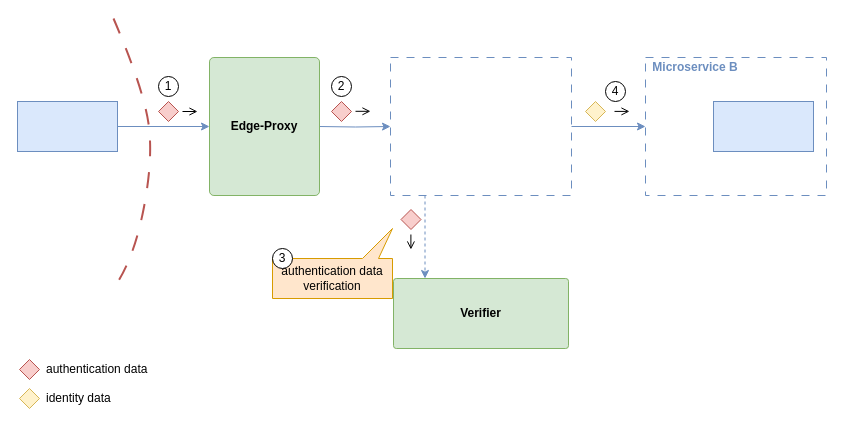
This 844x426 diagram has some shape labels left out. Each missing label, with the centre of its shape:
Microservice A: point (481, 126)
Some Client «Subject»: point (67, 126)
Some Entity «Object»: point (763, 126)
